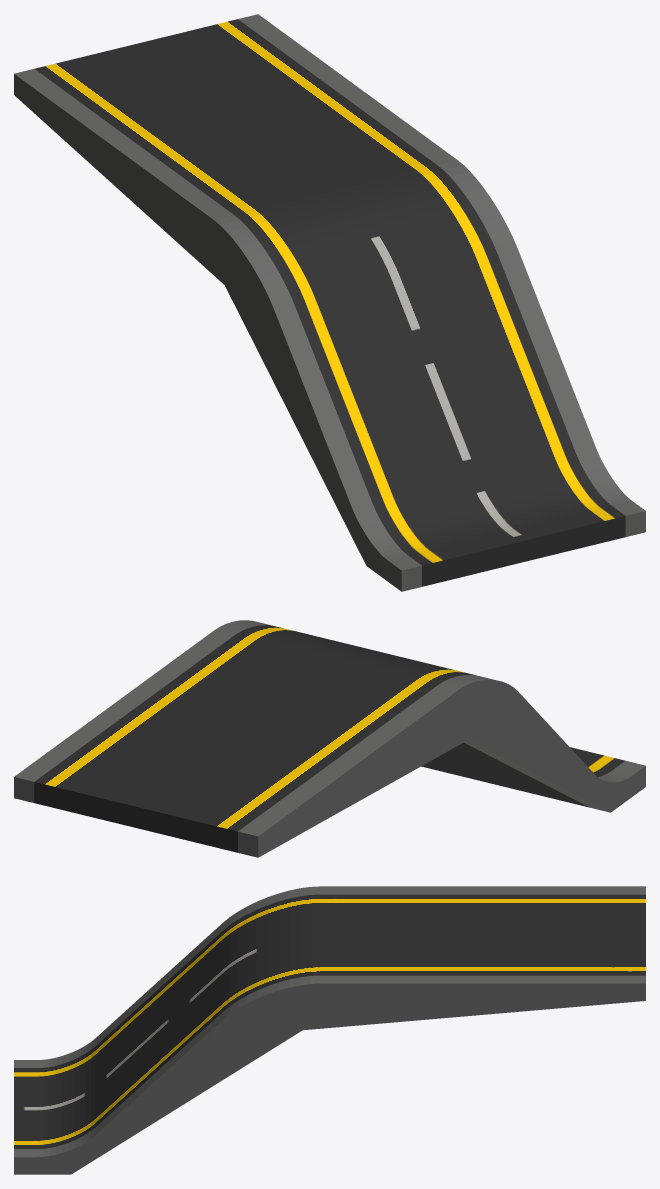
File: TrackStart.fbx
3 views of the same model, one above another, from view 1: azimuth 30°, elevation 25°; view 2: azimuth 150°, elevation 25°; view 3: azimuth 270°, elevation 25° (orthographic). The views are drawn at different scales.
Parts seen in each view (by area): view 1: TrackStart; view 2: TrackStart; view 3: TrackStart.
Part boxes in pixels (box(x1,y1,x2,y2)): TrackStart: box(14, 14, 645, 591); TrackStart: box(14, 620, 645, 857); TrackStart: box(14, 886, 645, 1174).
Size of the model in its own units: 1200 by 1100 by 3300.
